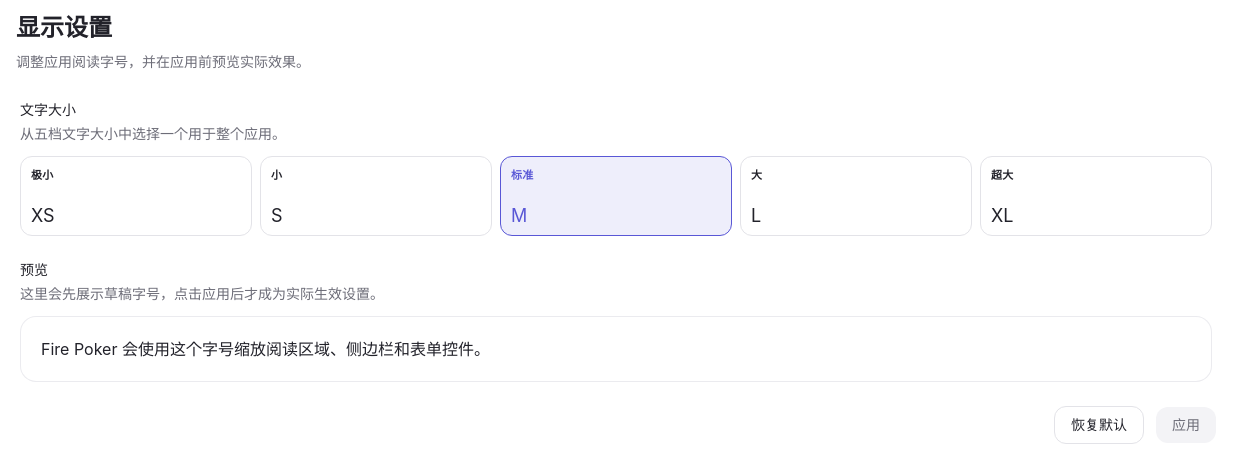
Test: DisplaySettingsView › enables apply when font size draft changes
Step 1. Click the button "大 L" → (856, 196), box [740,156,972,236]
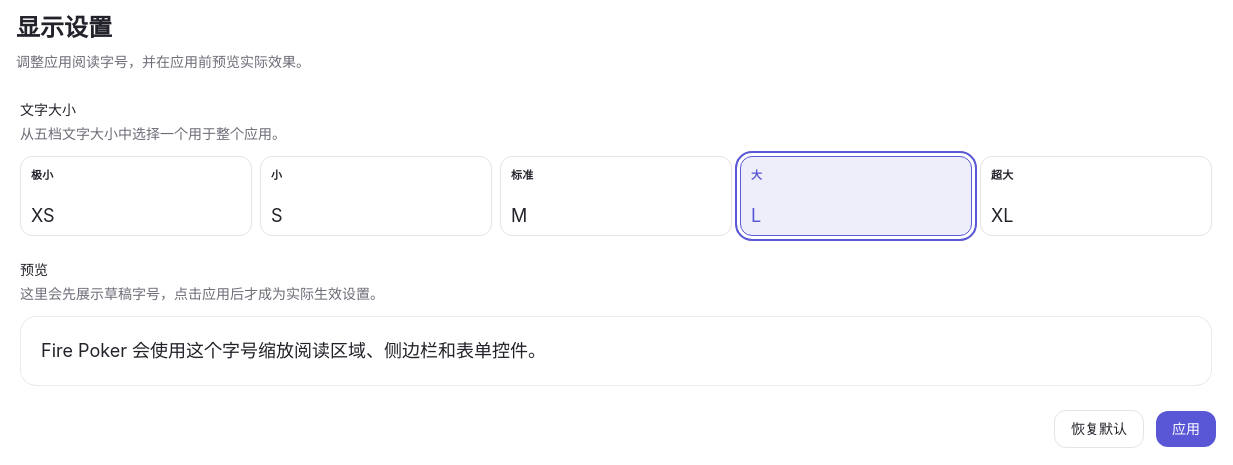
Expected: the button "应用" is enabled, [1156,411,1216,447]
